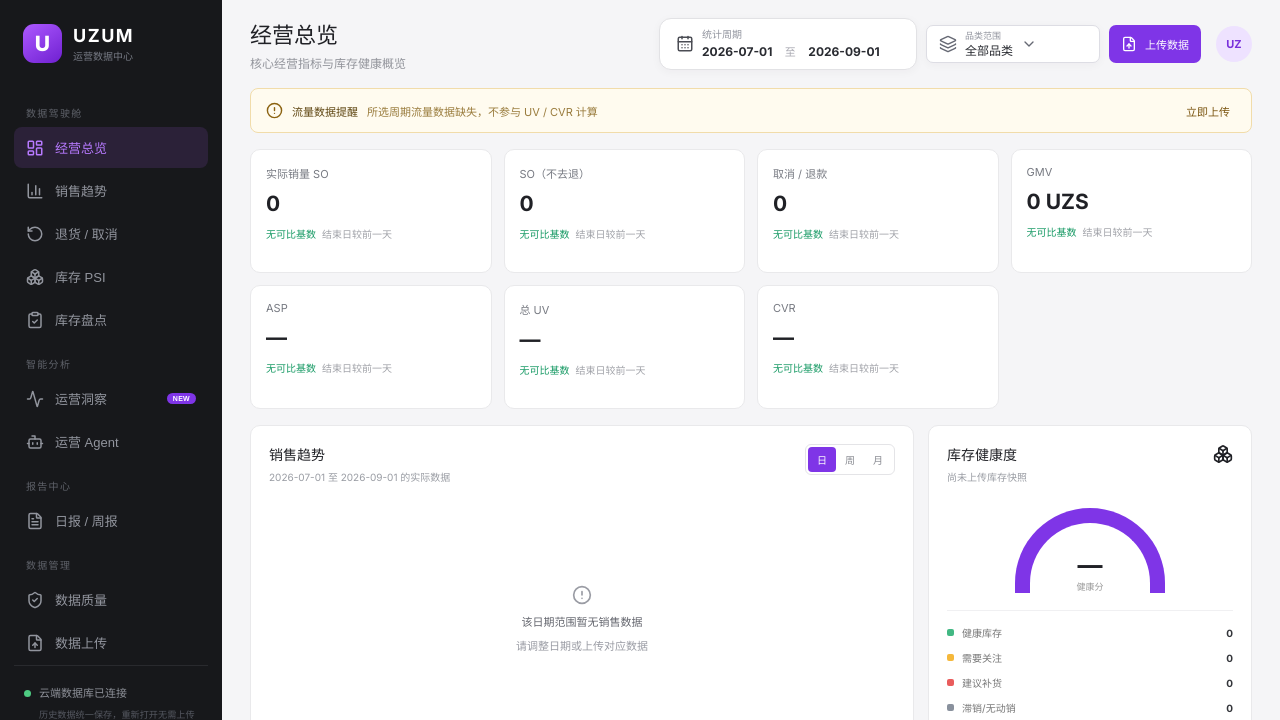
dashboard interactions › selects a date range by clicking a start day and an end day
Click the button "统计周期 2026-07-01 至 2026-09-01".
click(788, 44)  # box [659,18,917,70]
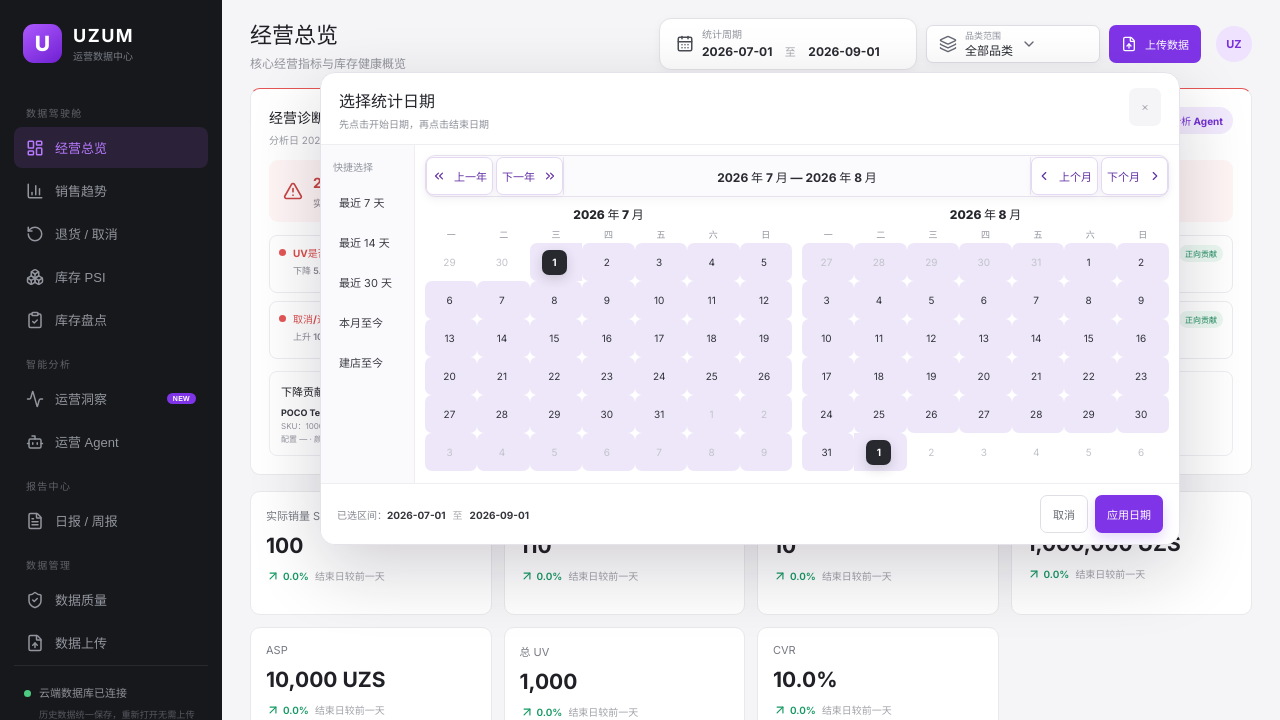
Result: the heading "选择统计日期" is shown at [339,91,435,111]
Click the button named "2026年7月28日".
click(504, 414)  # box [477,395,530,433]
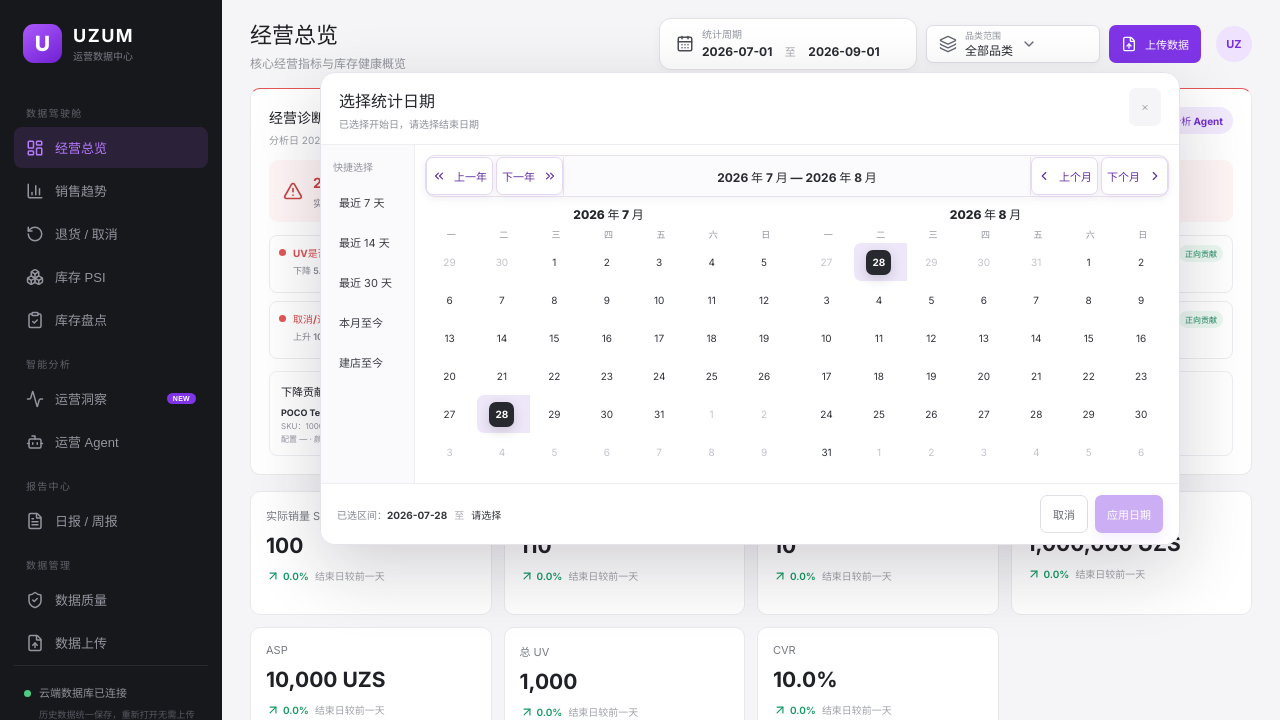
Click the button named "2026年8月3日".
click(828, 300)  # box [802,281,854,319]
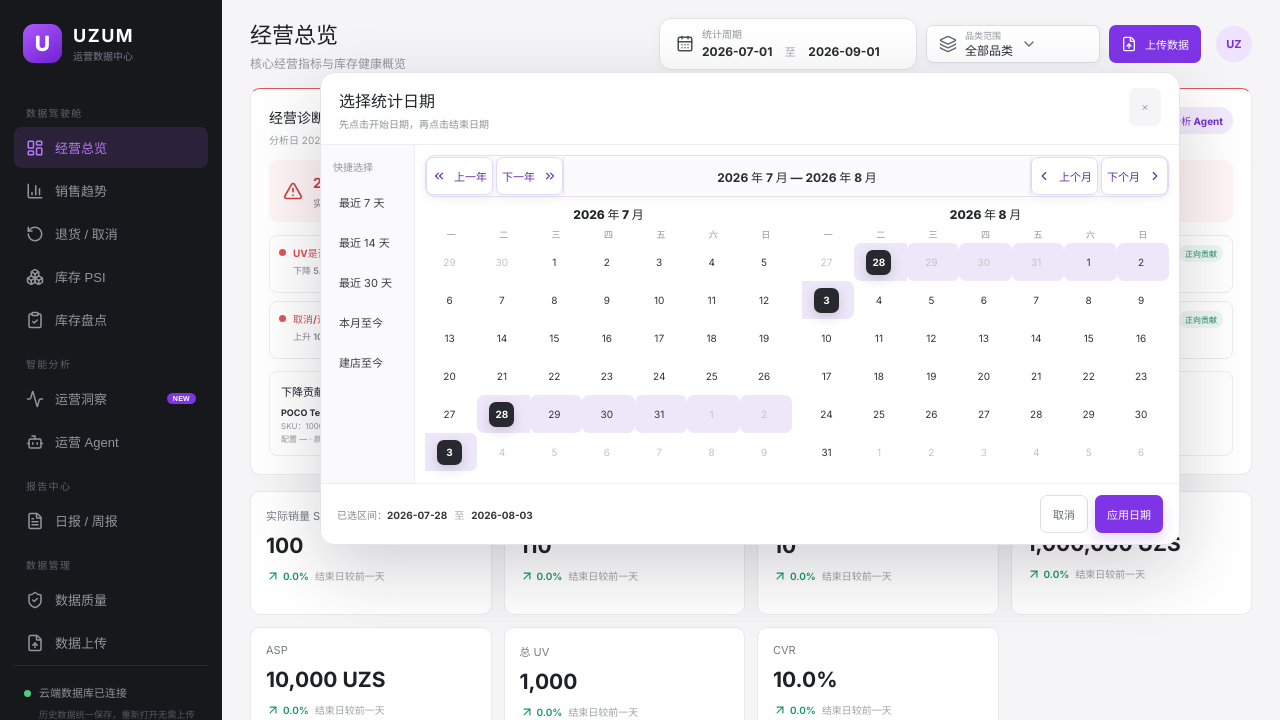
Click the button "应用日期".
click(1129, 514)  # box [1095,495,1163,533]
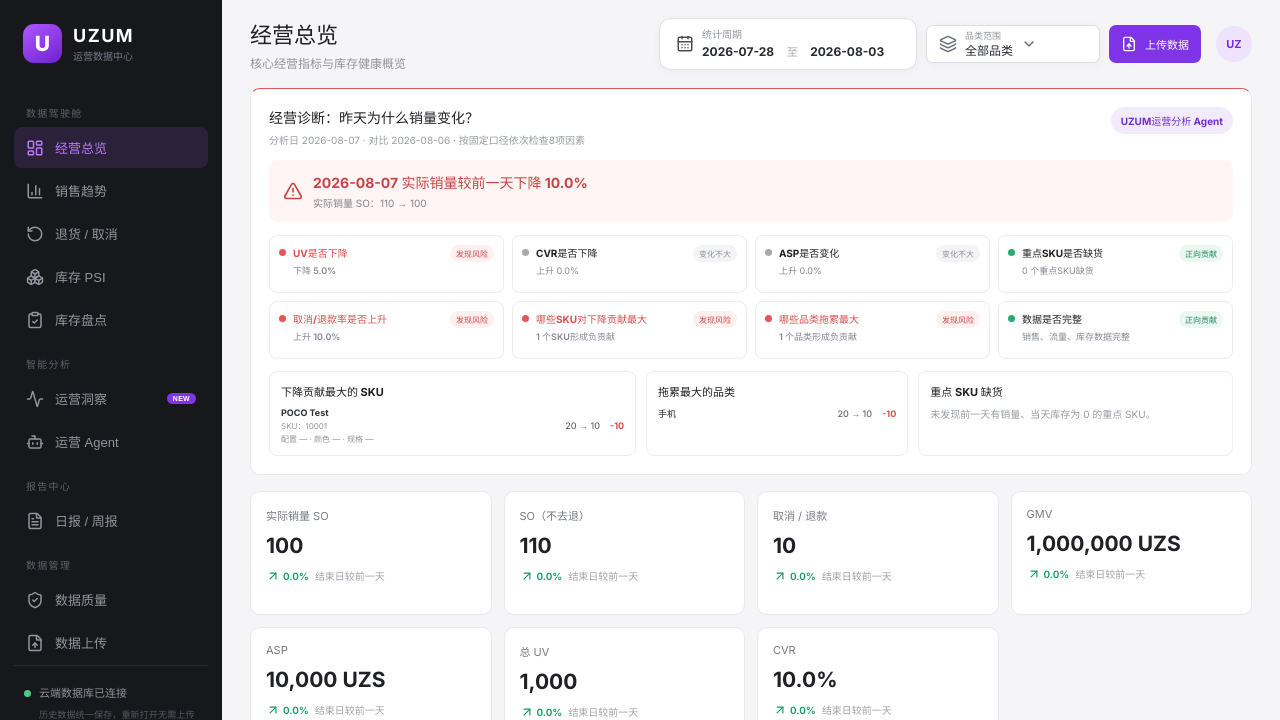
Result: the button "统计周期 2026-07-28 至 2026-08-03" is shown at [659,18,917,70]
